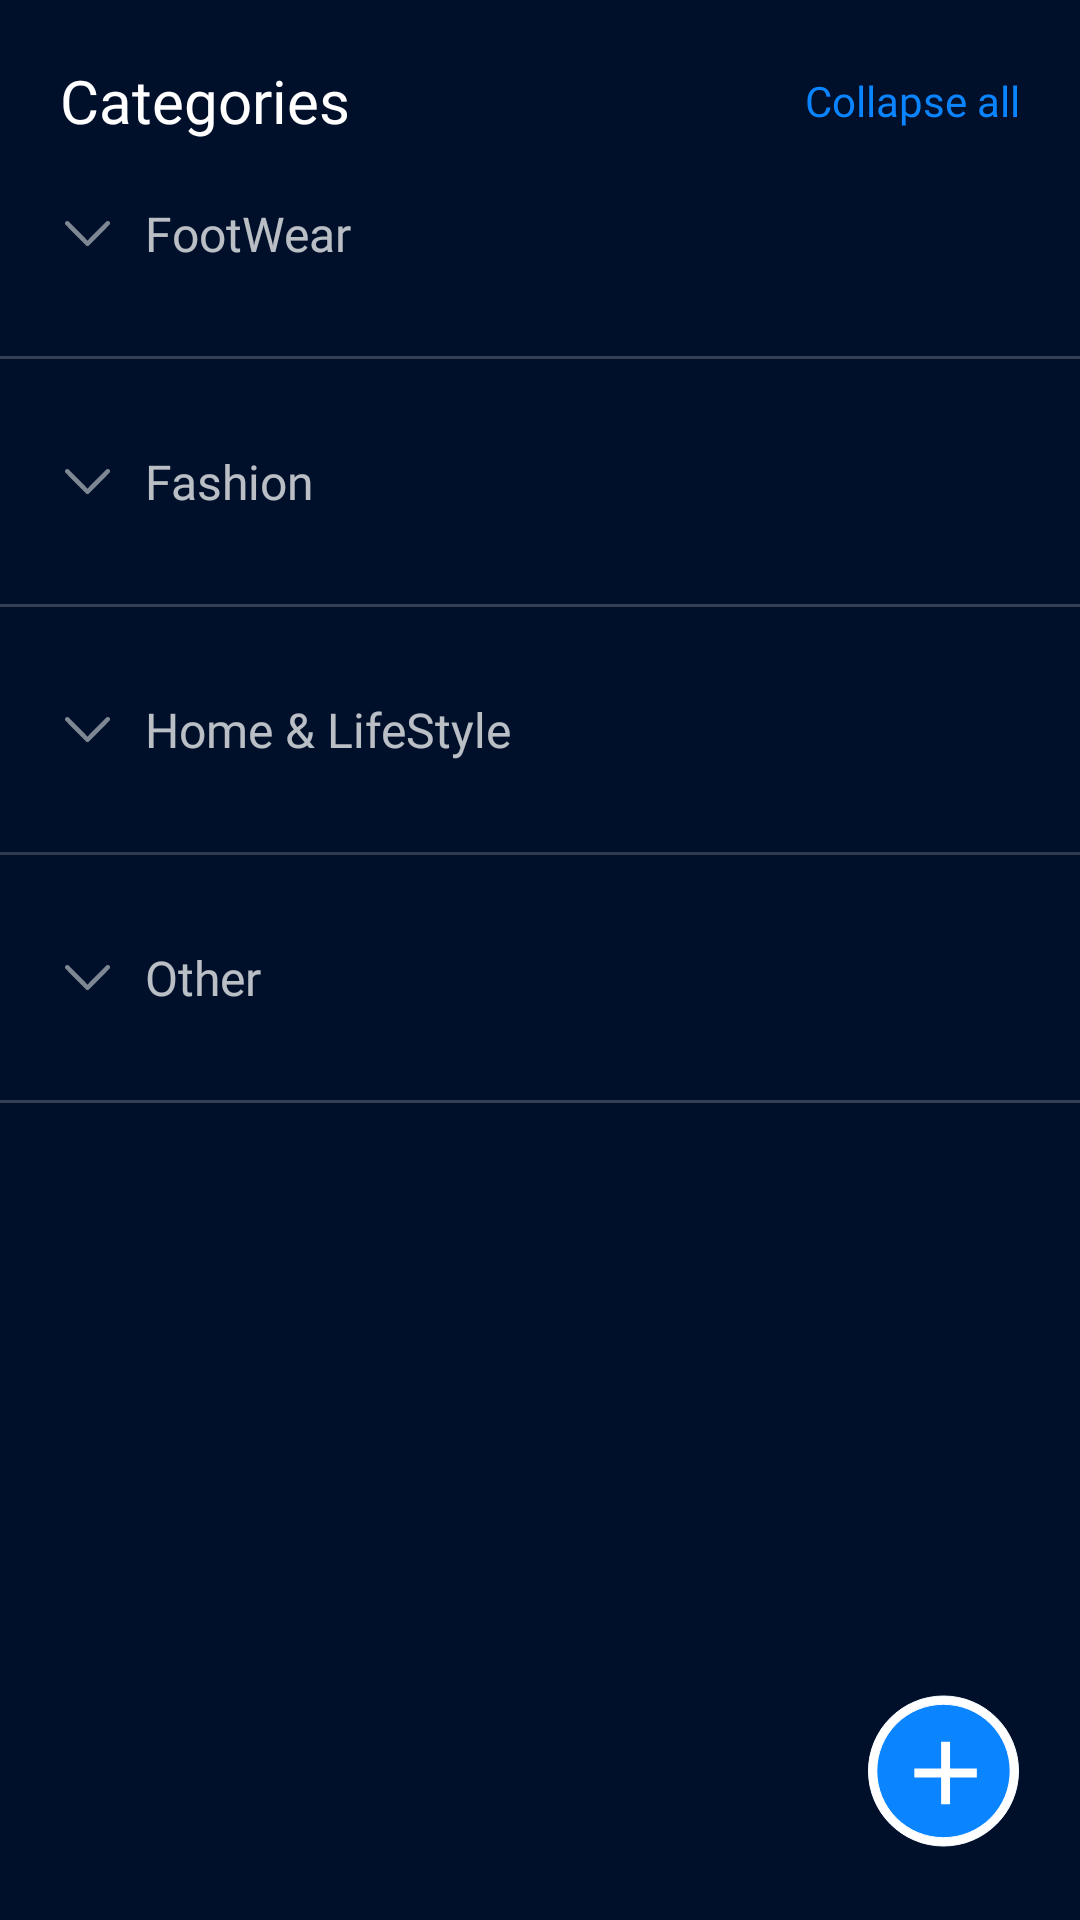

Named icons in this screenshot (1080x1920) and their centers, [x,y]:
float add: [943,1771]
